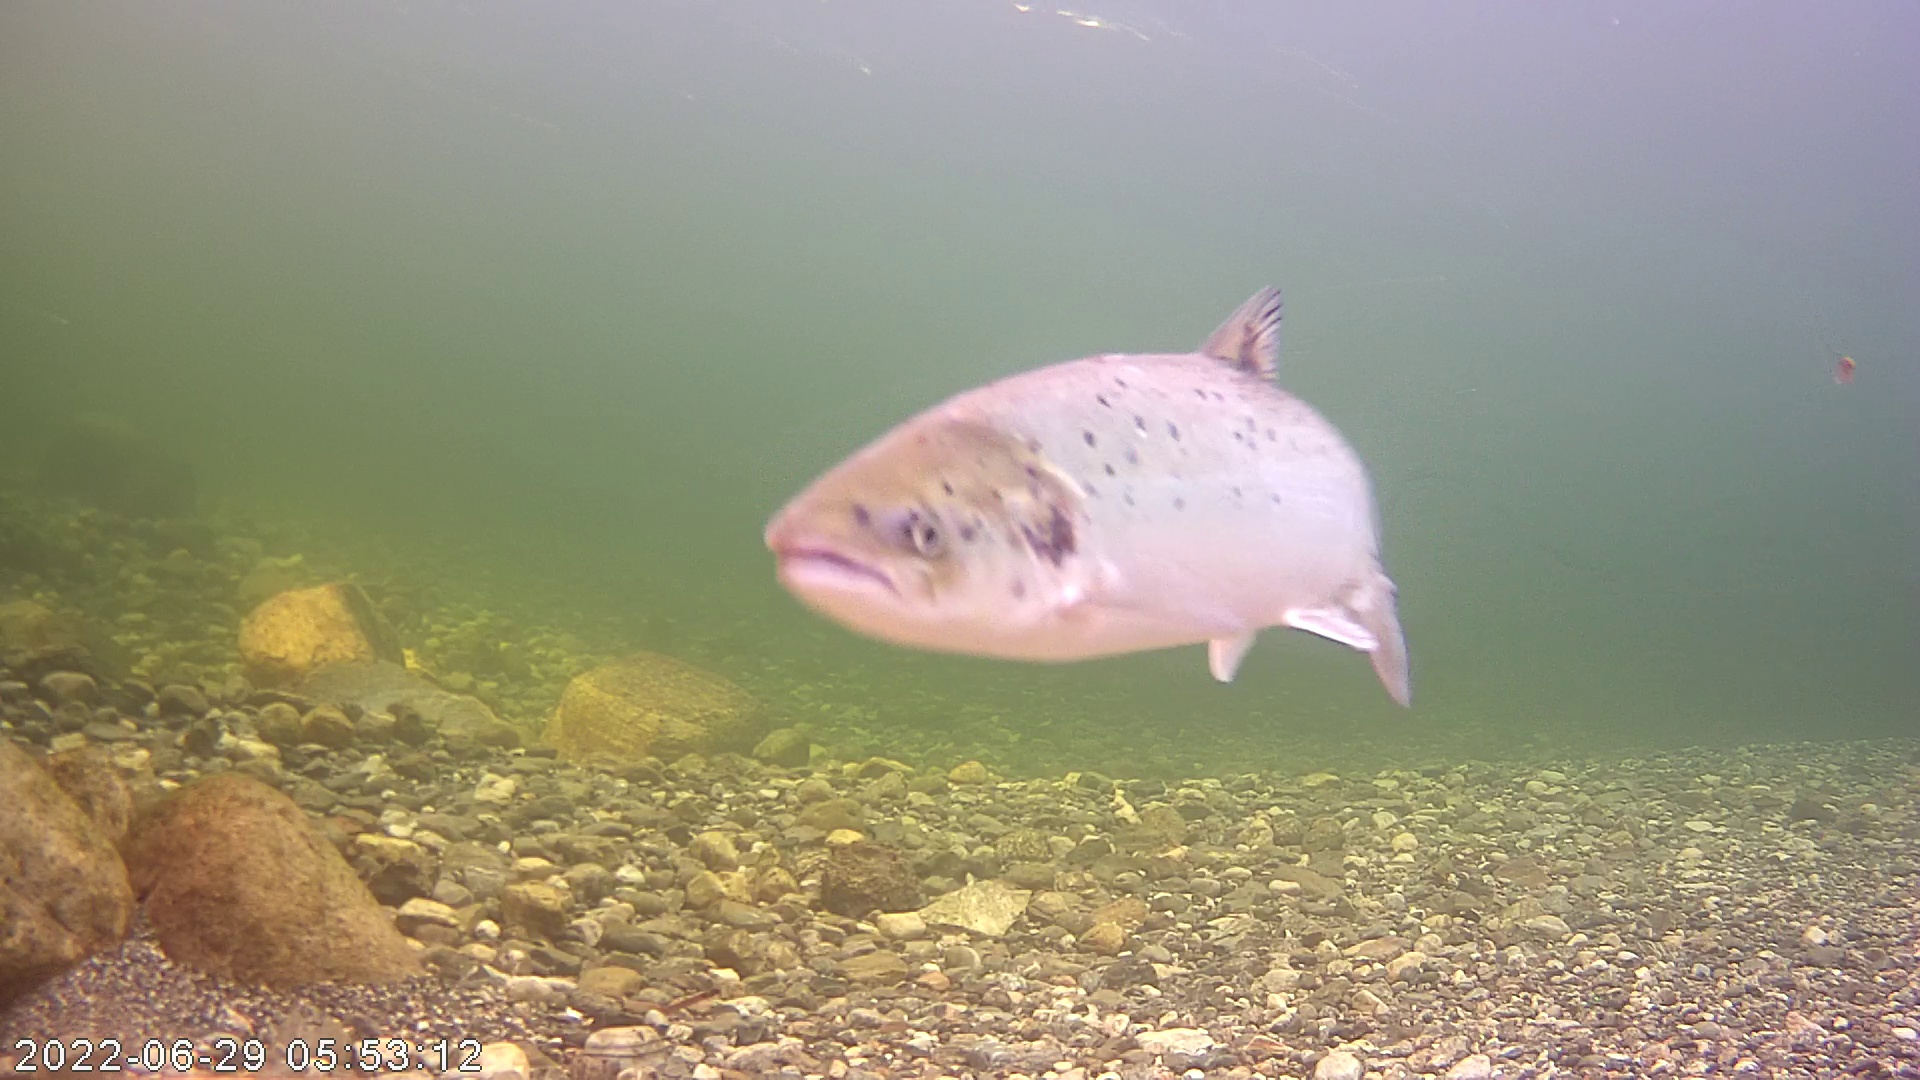salmon: (758, 218, 1399, 682)
